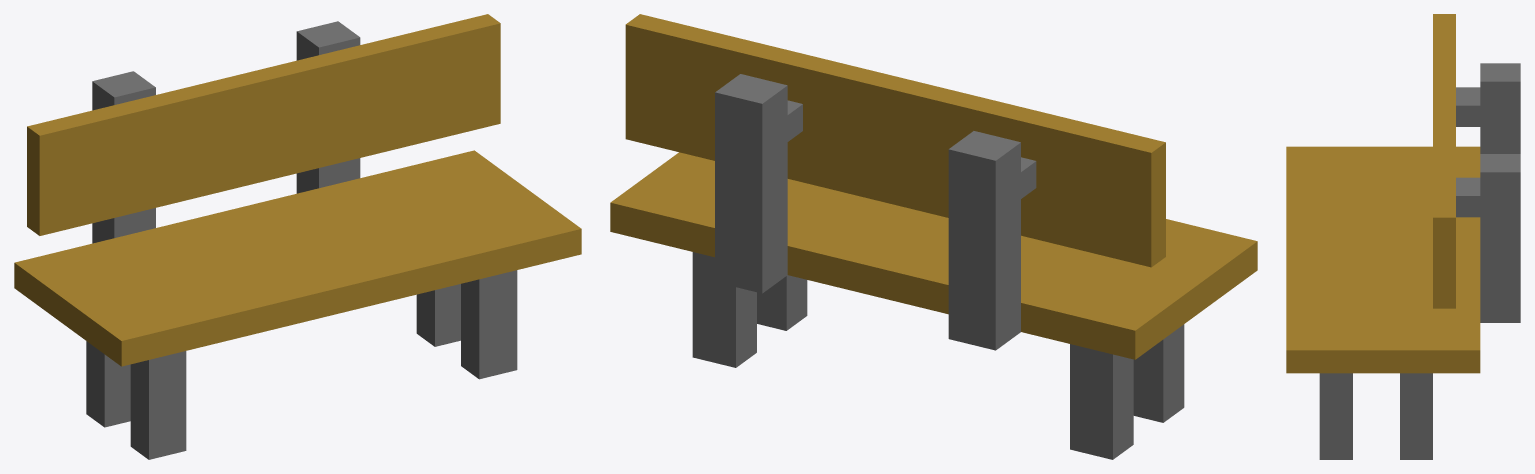
Rendered from benchf.fbx.
The picture shows the model from 3 angles, left to right: view 1: azimuth 30°, elevation 25°; view 2: azimuth 150°, elevation 25°; view 3: azimuth 270°, elevation 25°; orthographic projection. The views are drawn at different scales.
Visible parts, largest first — view 1: Box004; view 2: Box004; view 3: Box004.
Part boxes in pixels (x1=…): Box004: x1=14, y1=14, x2=581, y2=459; Box004: x1=610, y1=14, x2=1257, y2=459; Box004: x1=1286, y1=14, x2=1520, y2=459.
Size of the model in its own units: 428 by 257 by 208.
